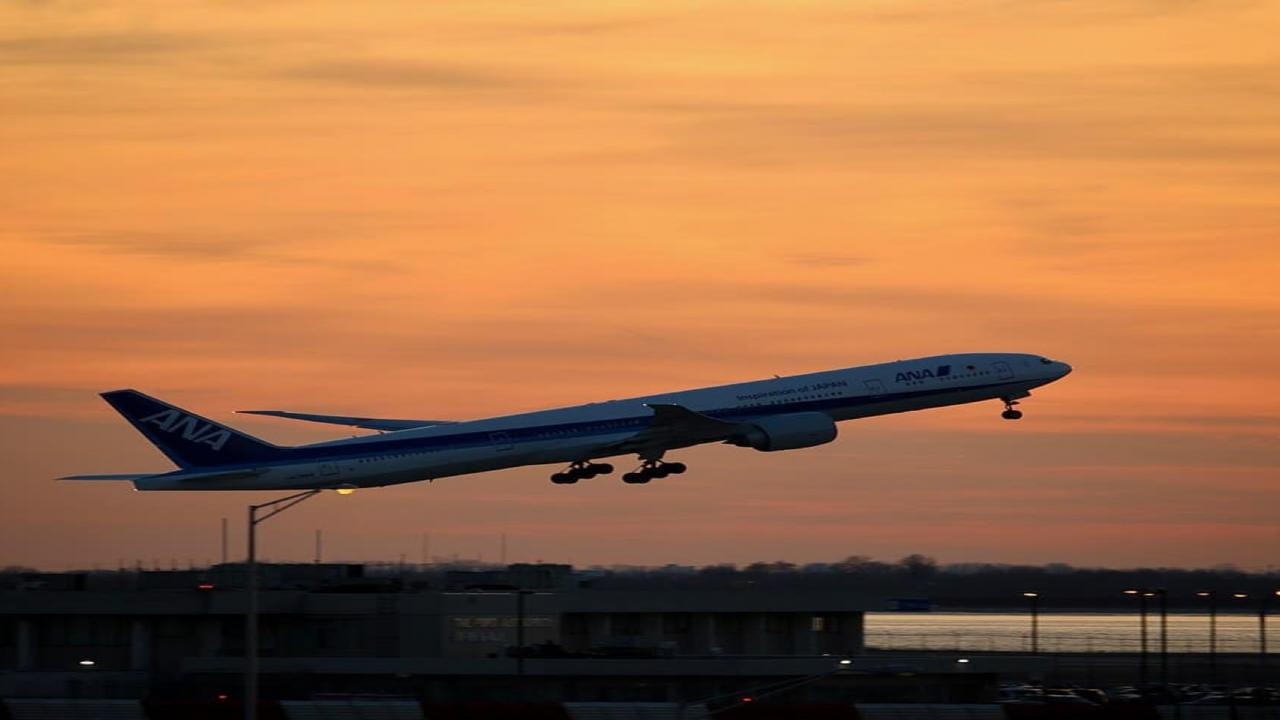Airplane: (50, 328, 1096, 511)
